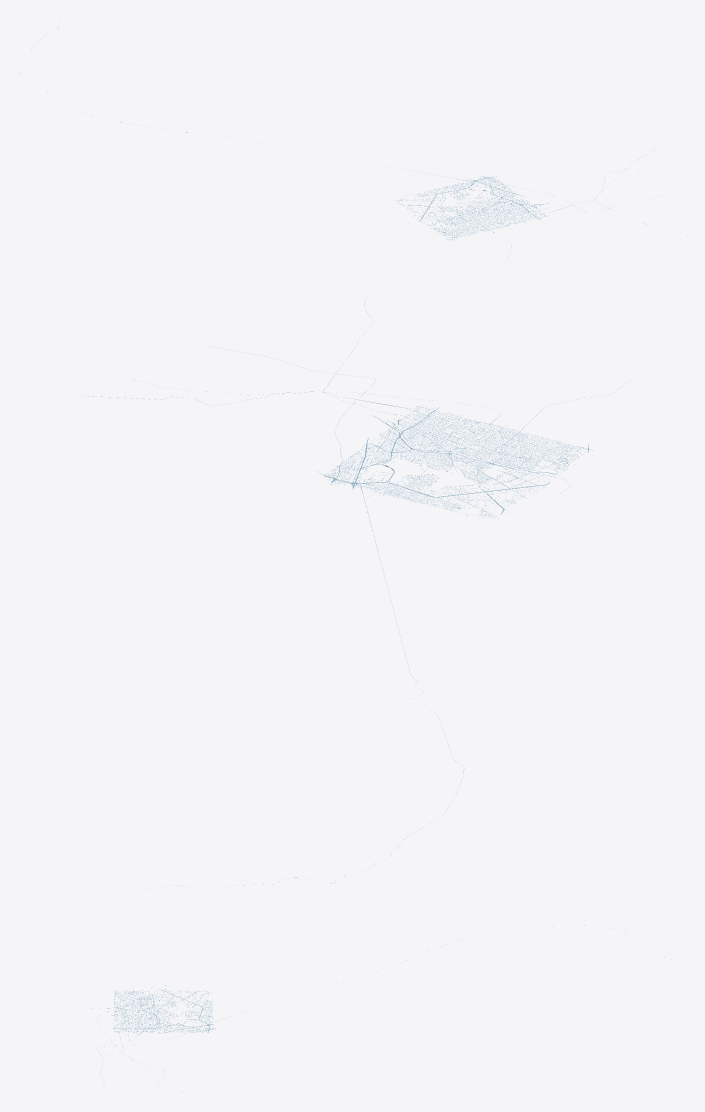
Rendered from roads.glb.
The picture shows the model from 3 angles, top to bottom: view 1: azimuth 30°, elevation 25°; view 2: azimuth 150°, elevation 25°; view 3: azimuth 270°, elevation 25°; orthographic projection. The views are drawn at different scales.
Visible parts, largest first — view 1: roads; view 2: roads; view 3: roads.
Part boxes in pixels (x1,y1,x2,y2): roads: [20, 16, 646, 260]; roads: [83, 303, 625, 887]; roads: [53, 925, 671, 1091].
Size of the model in its own units: 37360 by 423 by 61908.
